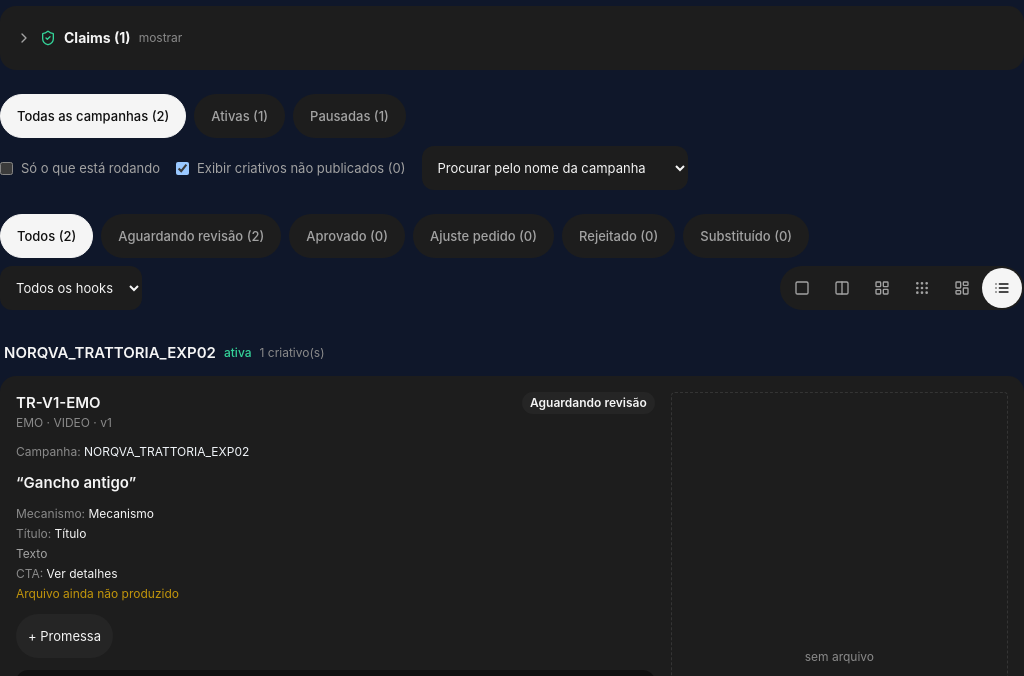
Test: NORQVA-0058 — tela Criativos › filtra pelo nome da campanha
Select "NORQVA_KIT_01 (pausada)" in the dropdown with test id "campaign-name-filter" at (555, 168), box [422, 146, 688, 190]
(page scrolled)
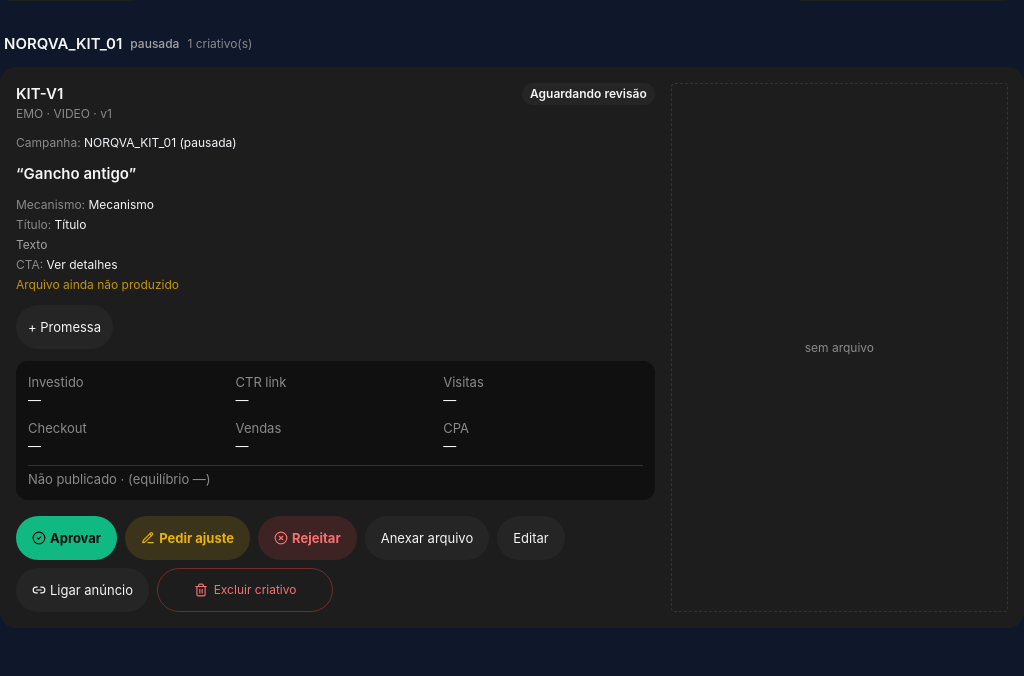
Expected: the element with test id "campaign-group" shows "NORQVA_KIT_01", [4, 34, 122, 53]
Result: the number of elements with test id "campaign-group" is 1
